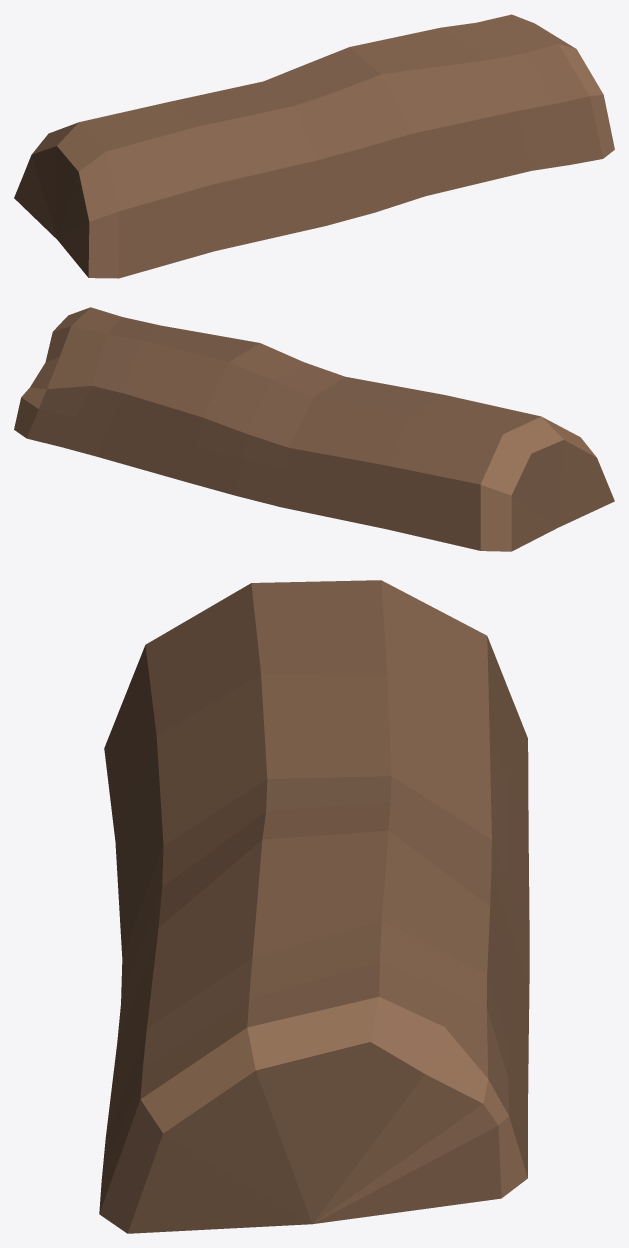
Rendered from Firewood_01.fbx.
3 renders of one model, top to bottom at view 1: azimuth 30°, elevation 25°; view 2: azimuth 150°, elevation 25°; view 3: azimuth 270°, elevation 25°, orthographic. The views are drawn at different scales.
Parts seen in each view (by area): view 1: Firewood_01; view 2: Firewood_01; view 3: Firewood_01.
Boxes of the visible parts, x1,y1,x2,y2 form: Firewood_01: (14,14,614,278); Firewood_01: (14,307,614,551); Firewood_01: (99,580,529,1233).
Bounding box in the file's own units: 70.92 × 14.02 × 25.24.
